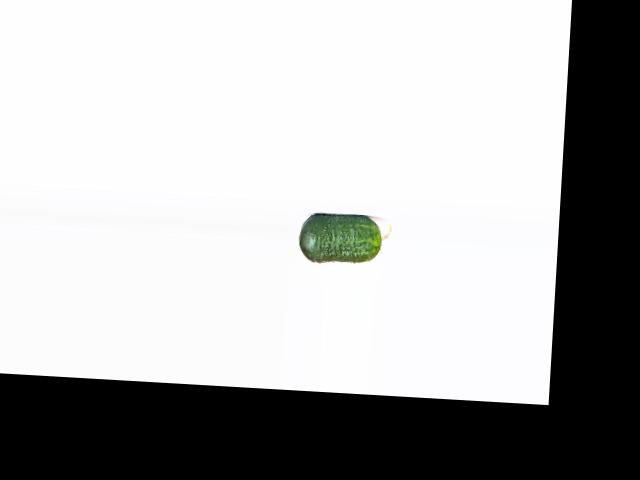cucumber: (298, 211, 392, 267)
